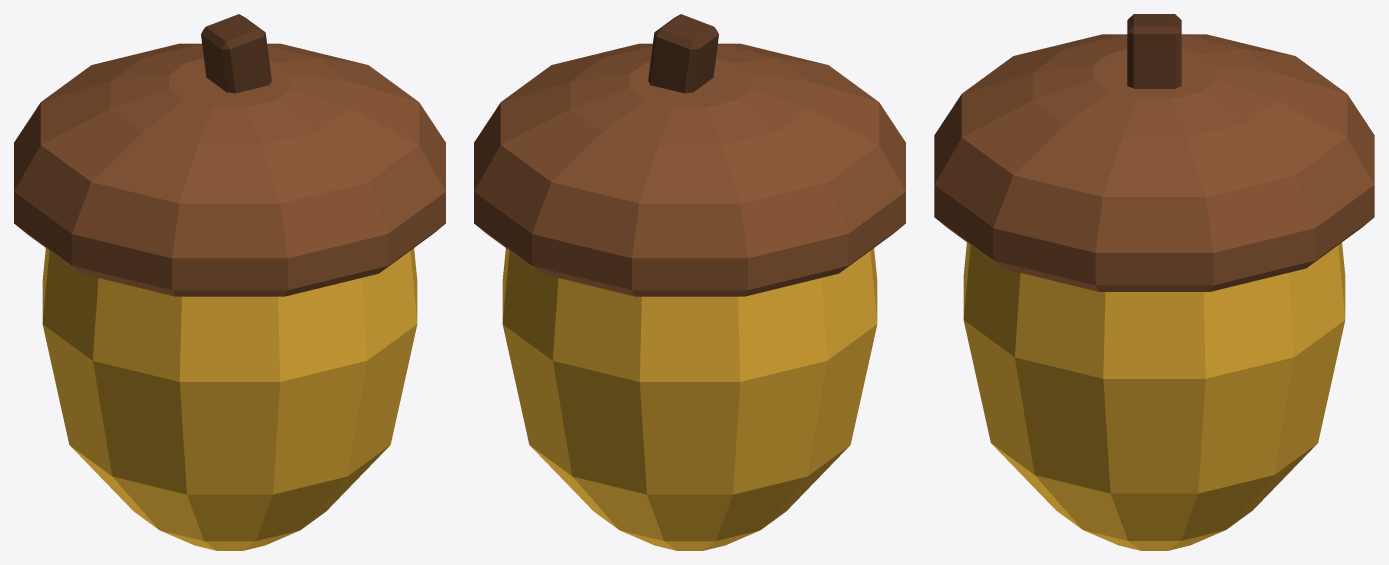
The model's file is golden-acorn.fbx.
3 renders of one model, left to right at view 1: azimuth 30°, elevation 25°; view 2: azimuth 150°, elevation 25°; view 3: azimuth 270°, elevation 25°, orthographic.
Visible parts, largest first — view 1: Cap • popped lid, Shell • closed, Stem • short angled brick; view 2: Cap • popped lid, Shell • closed, Stem • short angled brick; view 3: Cap • popped lid, Shell • closed, Stem • short angled brick.
Part boxes in pixels (<box>): Cap • popped lid: <box>14,43,445,296</box>; Shell • closed: <box>42,248,417,550</box>; Stem • short angled brick: <box>201,14,271,93</box>; Cap • popped lid: <box>474,43,905,296</box>; Shell • closed: <box>502,248,877,550</box>; Stem • short angled brick: <box>648,14,718,93</box>; Cap • popped lid: <box>934,34,1374,291</box>; Shell • closed: <box>963,242,1345,550</box>; Stem • short angled brick: <box>1127,14,1181,88</box>.
Size of the model in its own units: 233 by 300 by 233.
